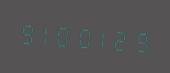nine: (17, 15, 35, 49), (131, 23, 149, 57)
one: (36, 16, 54, 50), (93, 20, 111, 54)
two: (112, 21, 130, 56)
zero: (55, 17, 73, 52), (74, 19, 92, 53)
